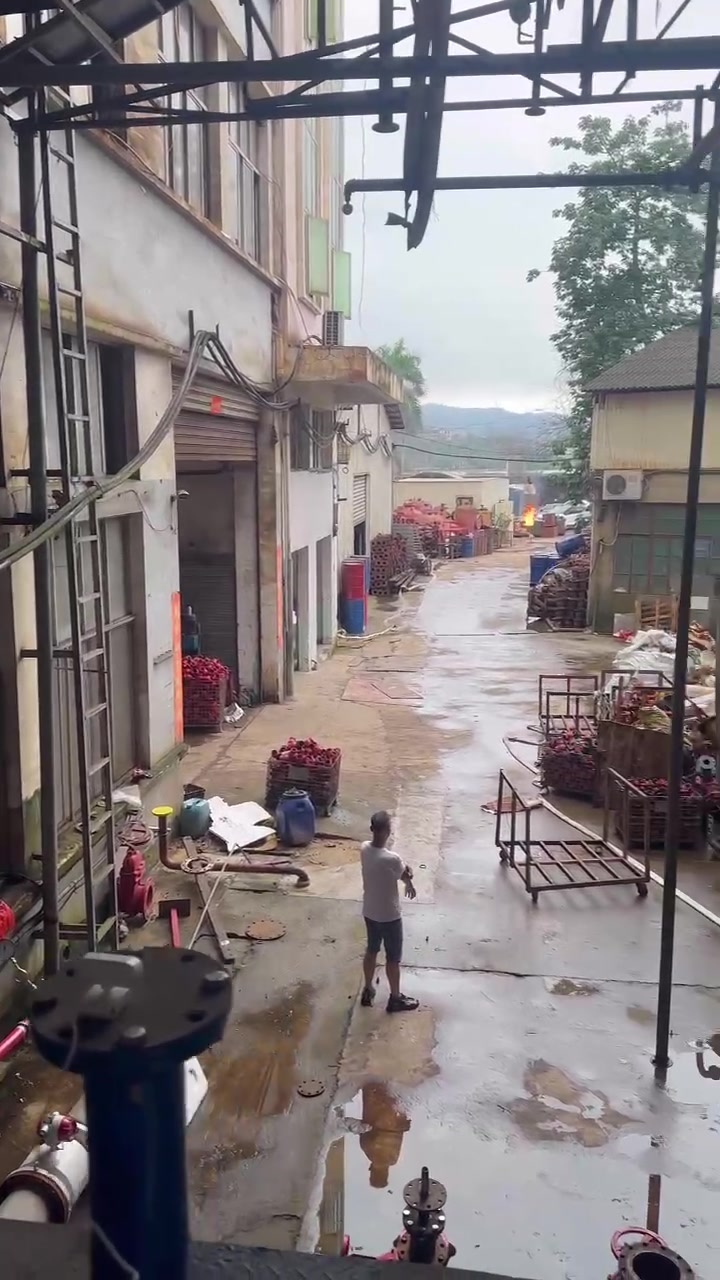fire: (521, 505, 535, 526)
